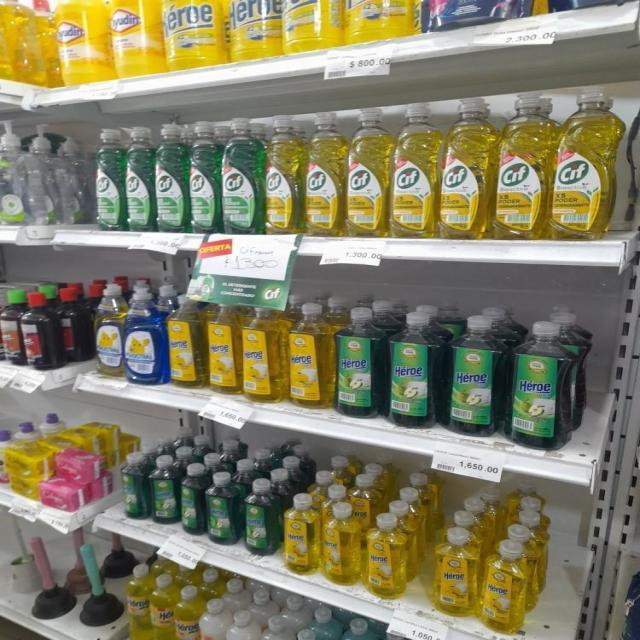cif_conc_bot_amarilla: (551, 87, 620, 241), (494, 91, 549, 242), (439, 98, 492, 241), (391, 103, 438, 240), (346, 108, 389, 238), (304, 111, 344, 237), (264, 114, 303, 236)
cif_conc_botella_verde: (222, 116, 262, 235), (188, 120, 220, 234), (155, 122, 187, 233), (93, 127, 123, 232), (125, 125, 154, 232)
cif_conc_sachet_amarillo: (161, 0, 222, 68), (227, 0, 281, 60), (281, 0, 343, 52), (345, 0, 419, 43)
heroe: (283, 492, 320, 576), (124, 565, 151, 640), (151, 573, 175, 640)
magistral_con_amarillo: (93, 281, 123, 379)
magistral_con_azul: (124, 280, 165, 386)
